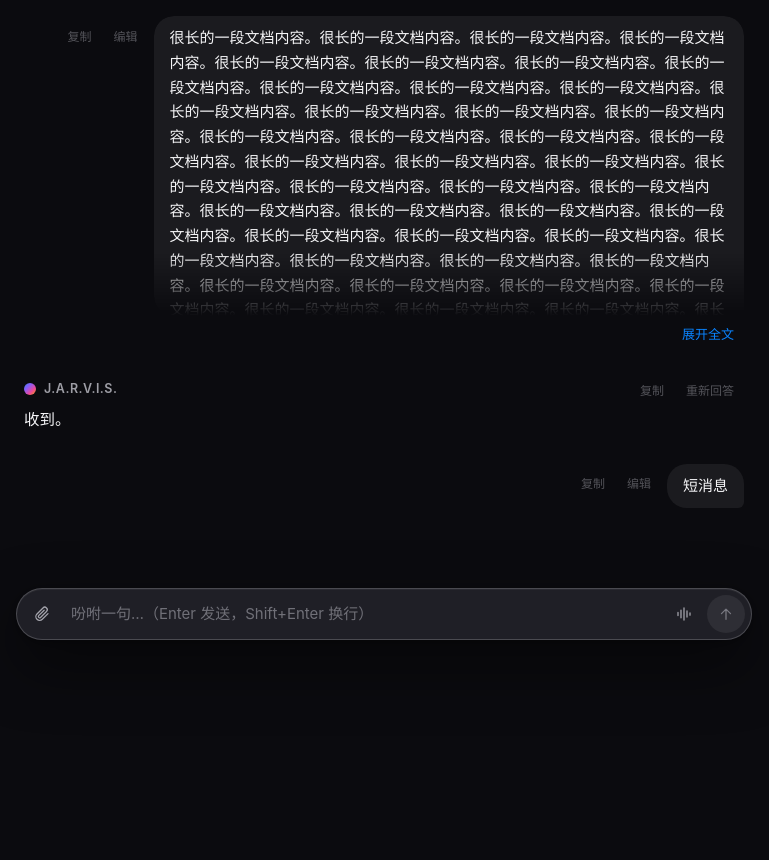
Test: 对话区接入 › 超长的用户消息折叠显示、可展开，不再做成会吃掉滑动手势的内部滚动框
Check: the text "短消息" is shown, box [667,464,744,508]
What coordinates should you click on to do the following:
click the button "展开全文"
I would click on:
 (708, 333)
Its box is [672,318,744,348].
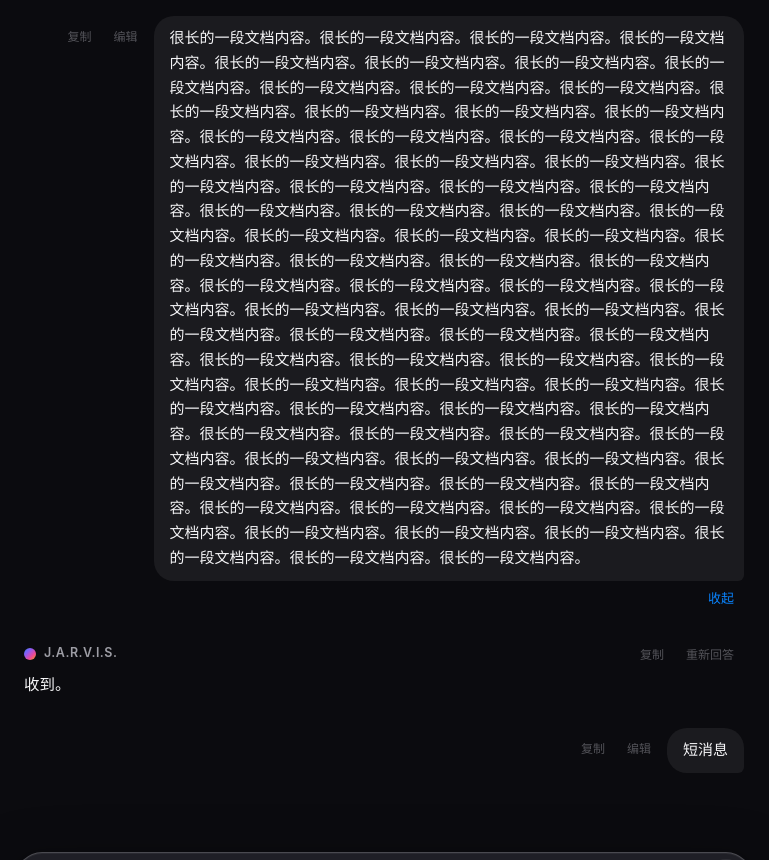
Check: the button "收起" is expanded, box [698,582,744,612]
